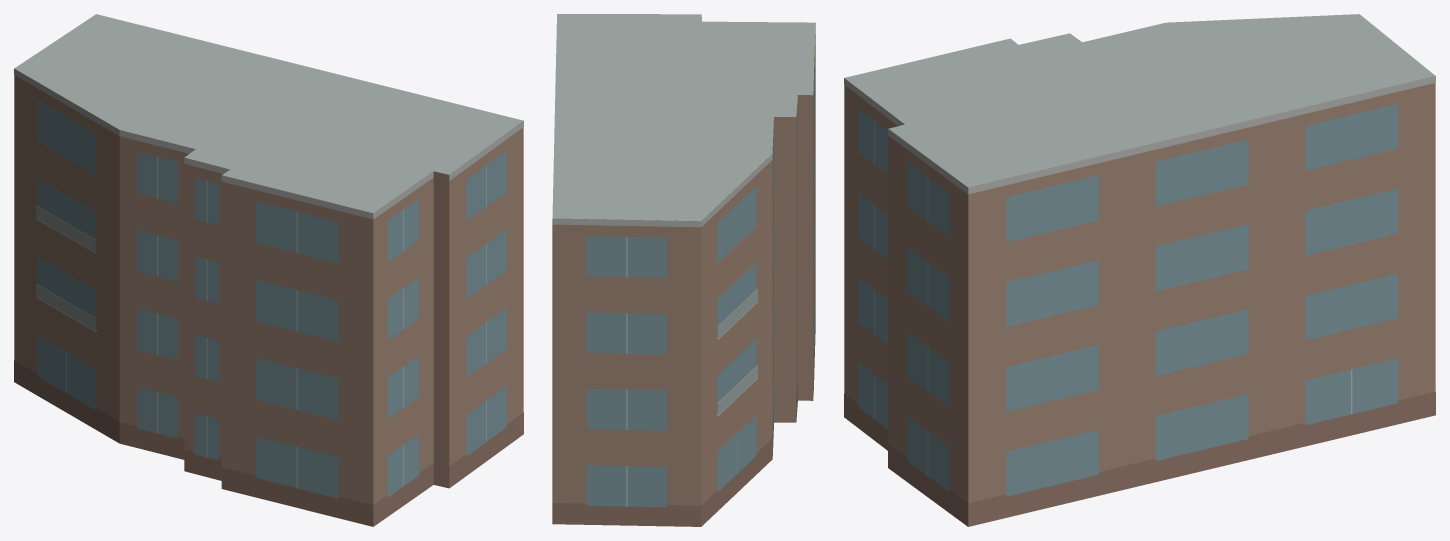
The model's file is survey-upis-32997218.glb.
The picture shows the model from 3 angles, left to right: view 1: azimuth 30°, elevation 25°; view 2: azimuth 150°, elevation 25°; view 3: azimuth 270°, elevation 25°; orthographic projection. The views are drawn at different scales.
Visible parts, largest first — view 1: survey-upis-32997218.tmp; view 2: survey-upis-32997218.tmp; view 3: survey-upis-32997218.tmp.
Boxes of the visible parts, x1=… form: survey-upis-32997218.tmp: x1=14, y1=14, x2=523, y2=526; survey-upis-32997218.tmp: x1=552, y1=14, x2=815, y2=526; survey-upis-32997218.tmp: x1=844, y1=14, x2=1435, y2=526.
Bounding box in the file's own units: 13.39 × 12.2 × 19.29.
